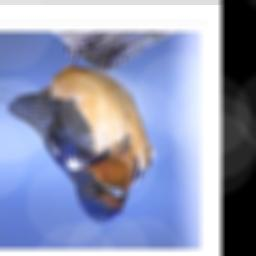Swallow: (0, 35, 157, 229)
